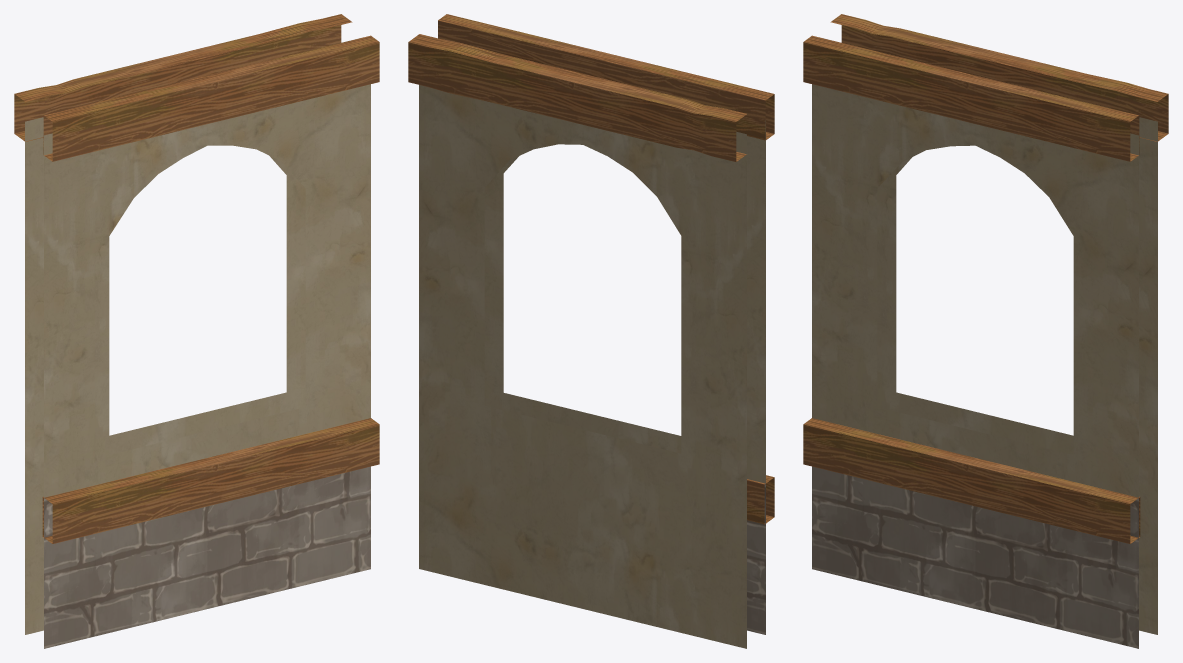
The model's file is Wall_Plaster_Window_Wide_Round.gltf.
3 views of the same model, side by side, from view 1: azimuth 30°, elevation 25°; view 2: azimuth 150°, elevation 25°; view 3: azimuth 330°, elevation 25° (orthographic).
Parts seen in each view (by area): view 1: Wall_Plaster_Window_Wide_Round; view 2: Wall_Plaster_Window_Wide_Round; view 3: Wall_Plaster_Window_Wide_Round.
Part boxes in pixels (<box>): Wall_Plaster_Window_Wide_Round: <box>14,14,379,648</box>; Wall_Plaster_Window_Wide_Round: <box>408,14,774,648</box>; Wall_Plaster_Window_Wide_Round: <box>803,14,1168,648</box>.
Bounding box in the file's own units: 2 × 3.12 × 0.4065.
Materials: 3 (3 with a texture image).
